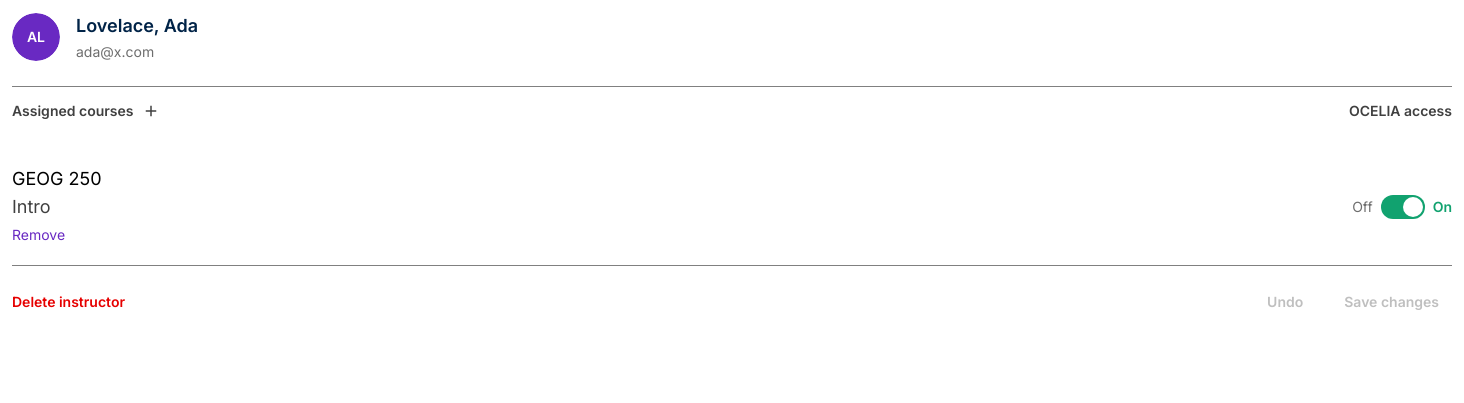
it: InstructorDetail (staged editing) › shows an inline error when a staged save partially fails
Click the switch named "OCELIA access for GEOG 250 — Intro": (1403,207) [1381,195,1425,219]
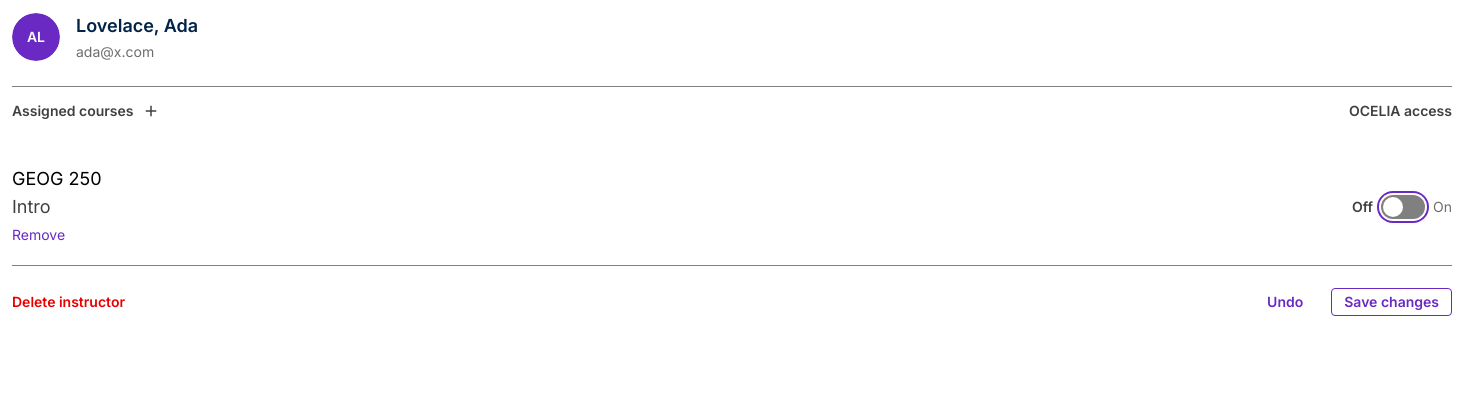
Click the button "Save changes": (1392,302) [1331,288,1452,316]
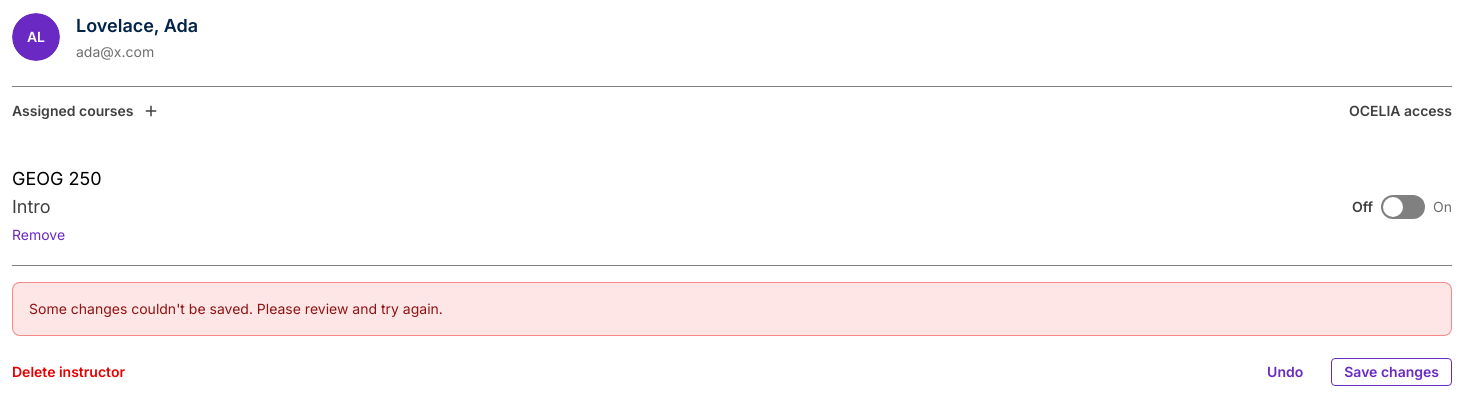
expect the message shows "couldn't be saved": met, box [29,300,443,317]
